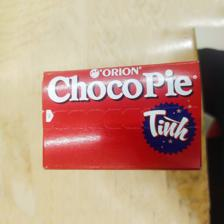Chocopie: (40, 61, 202, 173)
